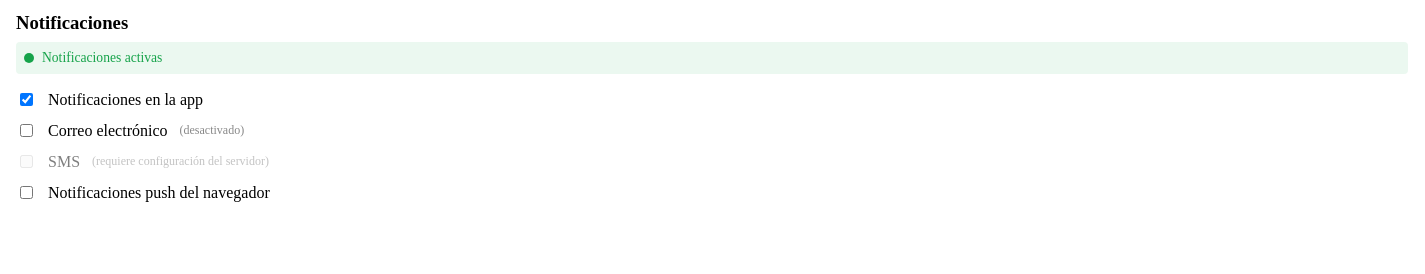
Test: NotificationSettingsForm › unknown error maps to fallback Spanish message
Click the checkbox labelled "Notificaciones push del navegador".
click(26, 192)  # box 20,186 -> 33,199
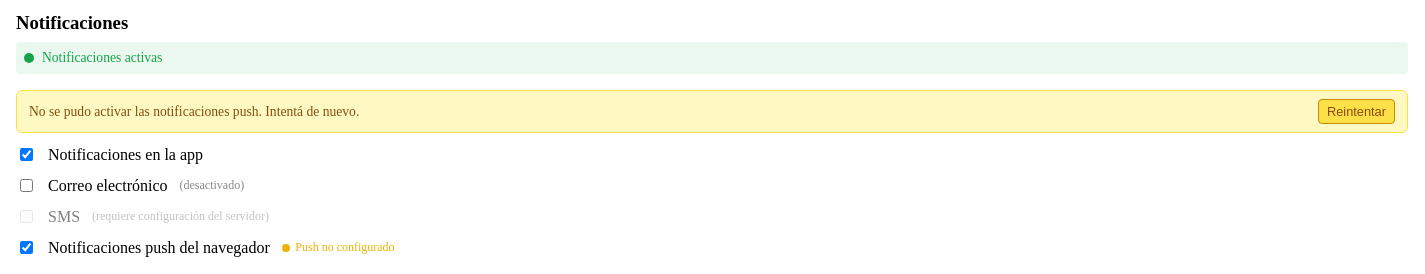
Now the text "No se pudo activar las notificaciones push" is shown, box 29,104 -> 359,118
